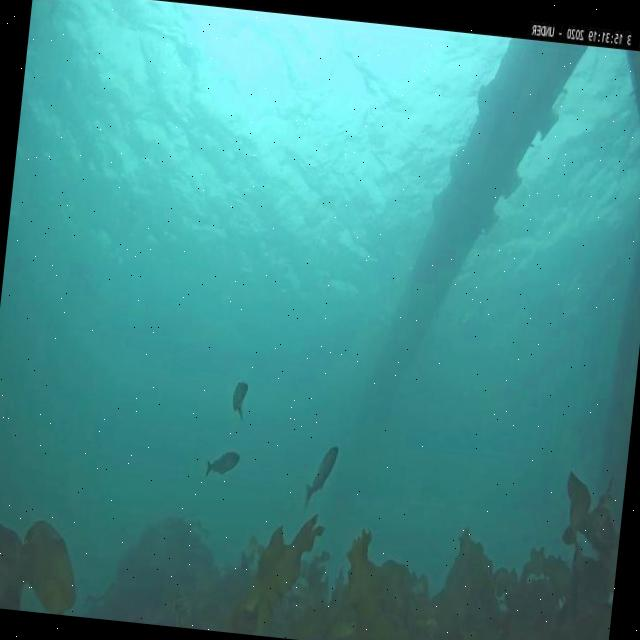fish: (304, 442, 338, 508), (204, 449, 242, 481), (229, 379, 250, 418)
